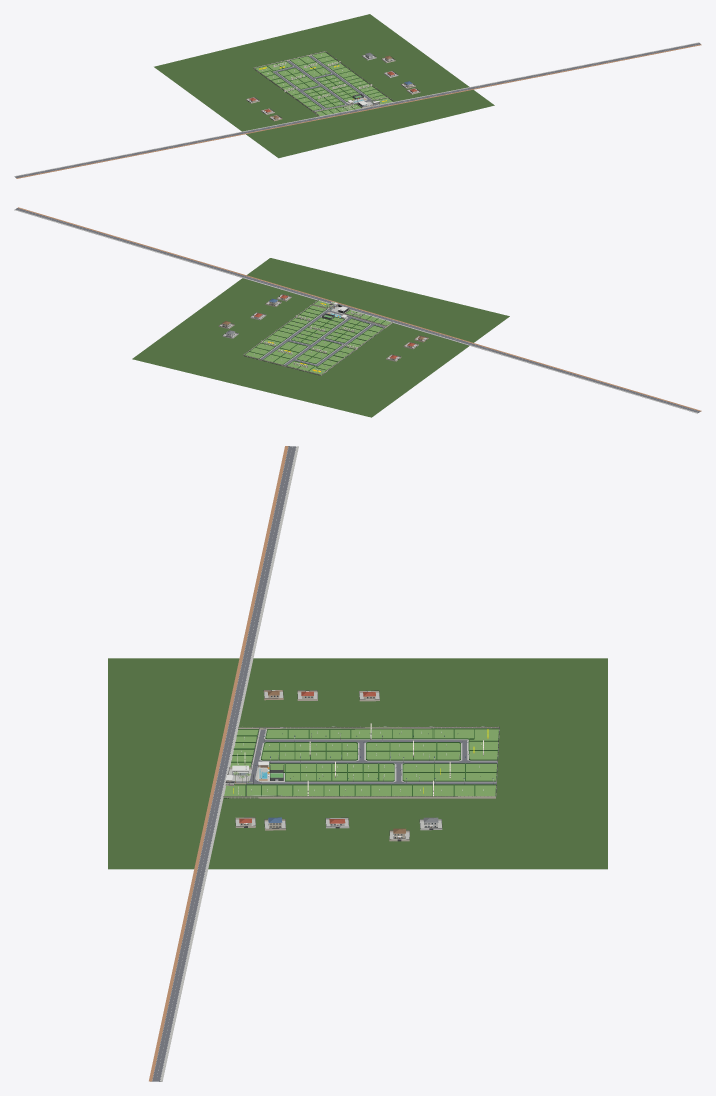
File: epe-estate.glb
3 renders of one model, top to bottom at view 1: azimuth 30°, elevation 25°; view 2: azimuth 150°, elevation 25°; view 3: azimuth 270°, elevation 25°, orthographic. The views are drawn at different scales.
Parts seen in each view (by area): view 1: Ground, Highway, Plot_FlowerHedges, Shoulder_S, Walkway, Estate_Road, Sidewalks; view 2: Ground, Highway, Plot_FlowerHedges, Shoulder_S, Walkway, Estate_Road, Sidewalks; view 3: Ground, Highway, Plot_FlowerHedges, Shoulder_S, Estate_Road, Walkway, Sidewalks, Plot_Lawns_G1, Plot_Lawns_G0, Plot_Lawns_D1.
Boxes of the visible parts, left/top/right/bottom form: Ground: left=154, top=14, right=494, bottom=158; Highway: left=15, top=43, right=700, bottom=178; Plot_FlowerHedges: left=254, top=52, right=393, bottom=114; Shoulder_S: left=16, top=44, right=701, bottom=178; Walkway: left=14, top=42, right=698, bottom=176; Estate_Road: left=269, top=55, right=377, bottom=113; Sidewalks: left=272, top=55, right=377, bottom=110; Ground: left=132, top=258, right=509, bottom=417; Highway: left=15, top=208, right=700, bottom=412; Plot_FlowerHedges: left=243, top=300, right=385, bottom=375; Shoulder_S: left=18, top=207, right=701, bottom=411; Walkway: left=14, top=209, right=697, bottom=413; Estate_Road: left=246, top=305, right=384, bottom=373; Sidewalks: left=260, top=306, right=384, bottom=364; Ground: left=108, top=658, right=607, bottom=869; Highway: left=152, top=446, right=296, bottom=1081; Plot_FlowerHedges: left=223, top=728, right=498, bottom=798; Shoulder_S: left=149, top=446, right=288, bottom=1081; Estate_Road: left=236, top=729, right=499, bottom=796; Walkway: left=160, top=446, right=298, bottom=1081; Sidewalks: left=231, top=729, right=496, bottom=782; Plot_Lawns_G1: left=266, top=729, right=453, bottom=738; Plot_Lawns_G0: left=288, top=729, right=473, bottom=738; Plot_Lawns_D1: left=270, top=764, right=394, bottom=780.
Bounding box in the file's own units: 1565 × 13.28 × 520.
